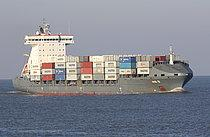Ship: (9, 19, 195, 97)
